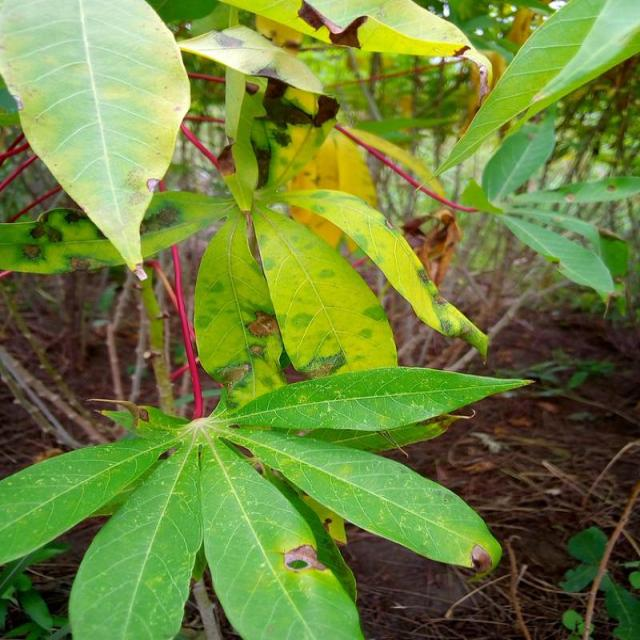cassava leaf: (0, 1, 534, 638), (0, 0, 191, 278), (221, 425, 502, 578), (433, 0, 638, 177), (198, 431, 364, 638), (67, 433, 203, 638), (250, 202, 398, 376)
